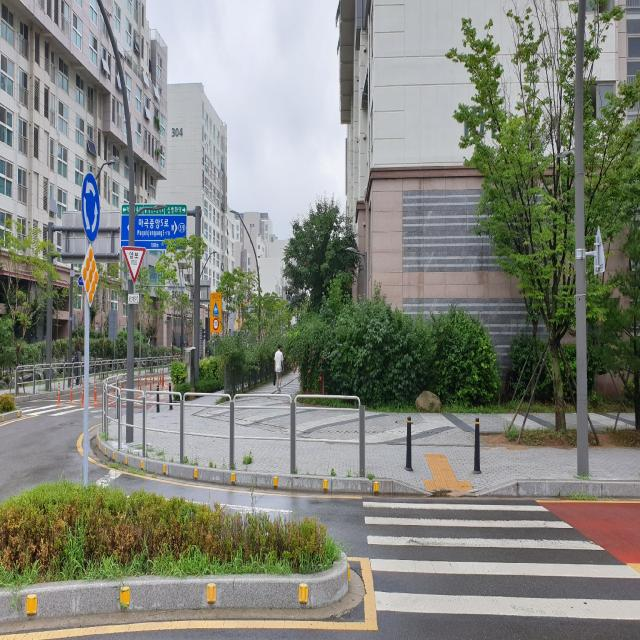횡단보도: (360, 498, 640, 623), (19, 389, 90, 420)
